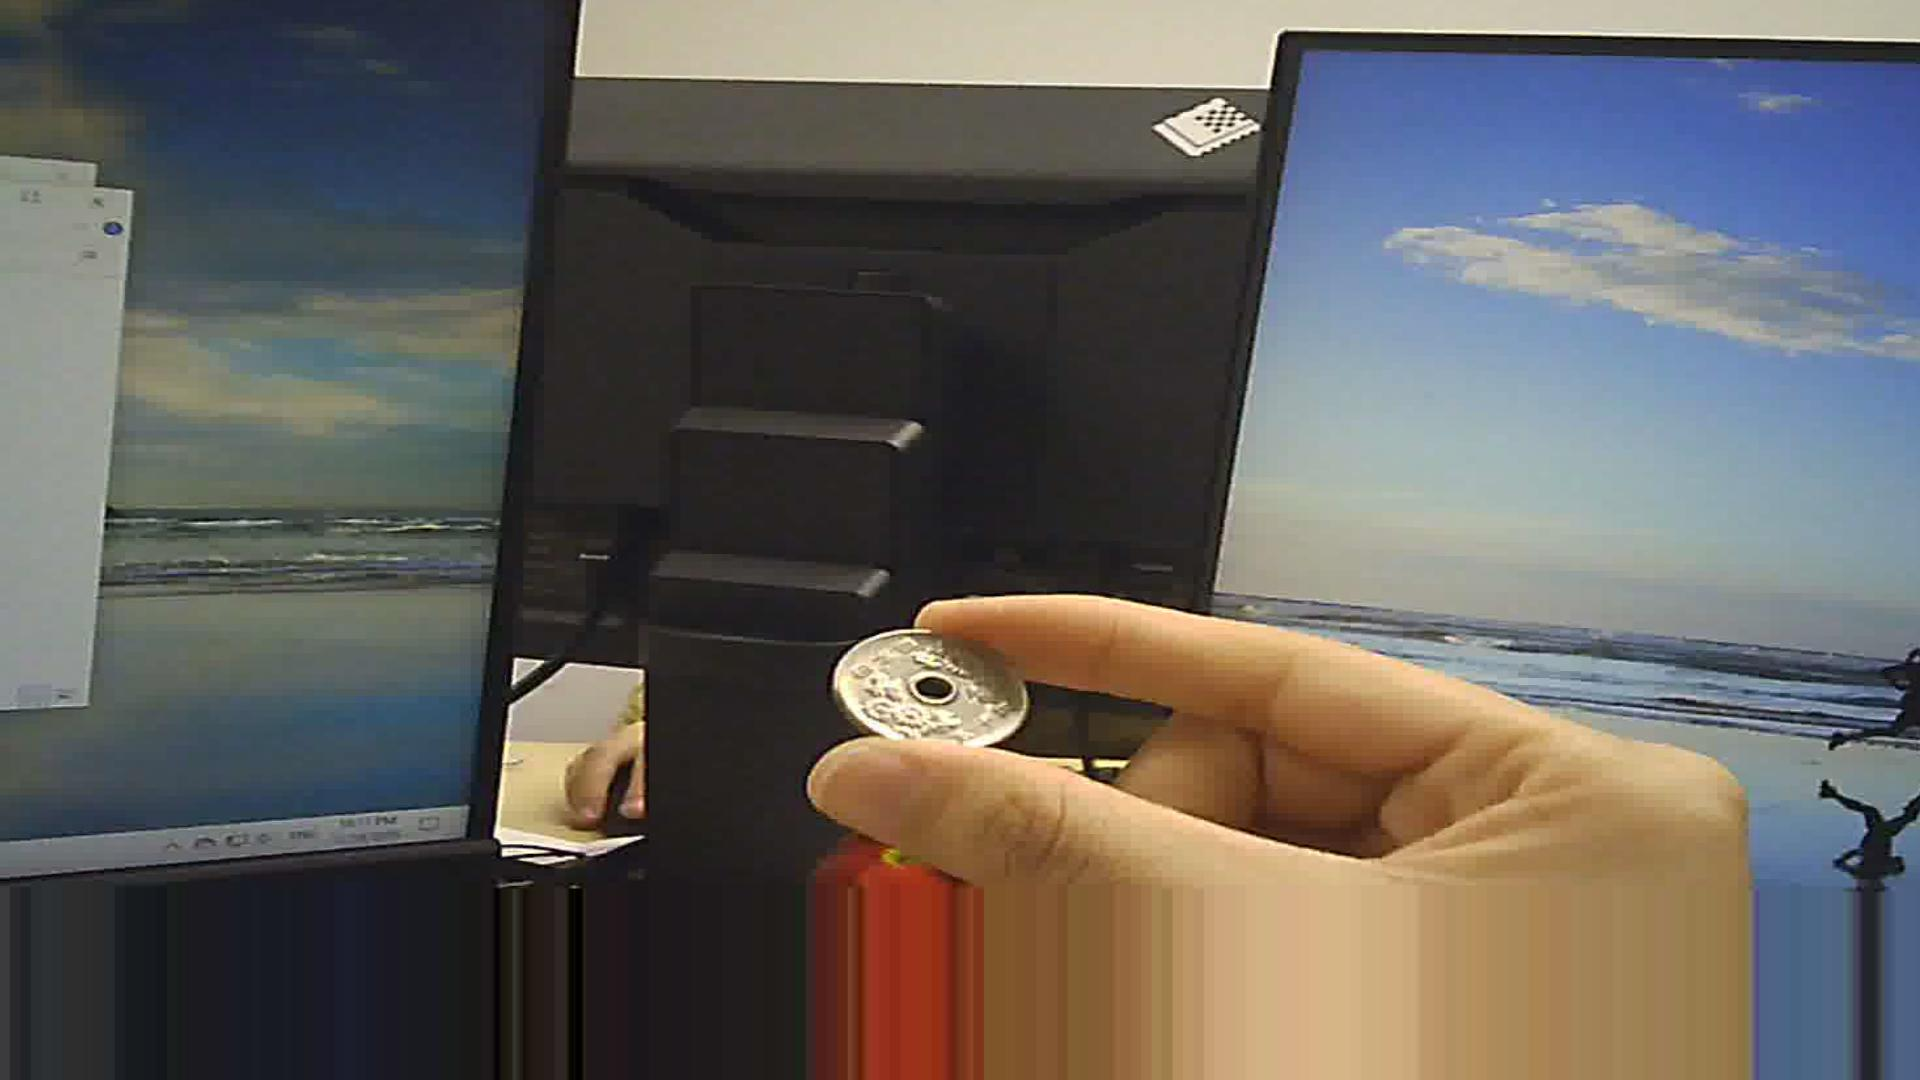50 Yen: (796, 624, 1015, 760)
